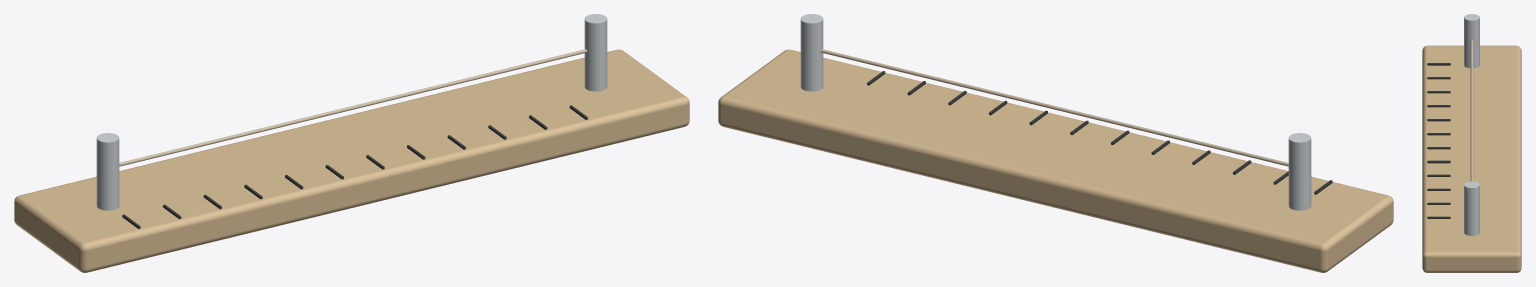
The model's file is candlemaking-and-soap-workshop-wick-measuring-jig-5248260e__30652.glb.
3 views of the same model, side by side, from view 1: azimuth 30°, elevation 25°; view 2: azimuth 150°, elevation 25°; view 3: azimuth 270°, elevation 25° (orthographic). The views are drawn at different scales.
Visible parts, largest first — view 1: wick-measuring-jig; view 2: wick-measuring-jig; view 3: wick-measuring-jig.
Boxes of the visible parts, x1,y1,x2,y2 form: wick-measuring-jig: [14, 14, 689, 272]; wick-measuring-jig: [718, 14, 1393, 272]; wick-measuring-jig: [1422, 14, 1521, 272].
Size of the model in its own units: 0.75 by 0.115 by 0.15.
